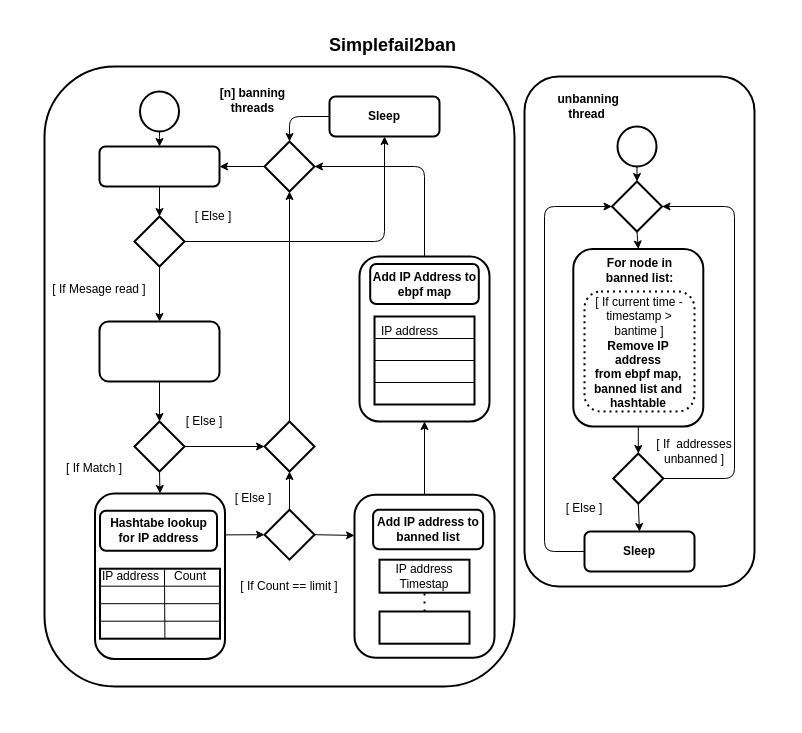
Some shapes in this 802 by 733 pixel diagram are drawn without their labels. The box of each missing label's shape, as (x1, y1, x2, y2) in pixels:
Call read: (98, 145, 220, 187)
Parse message (regex): (98, 320, 220, 382)
